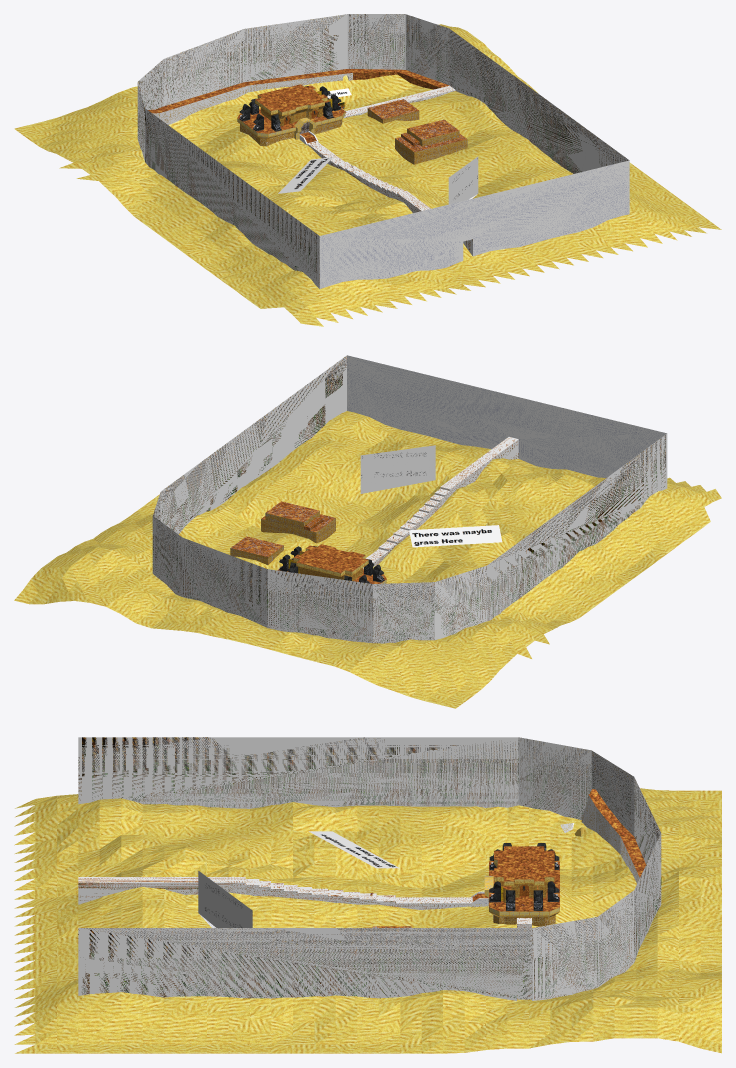
The picture shows the model from 3 angles, top to bottom: view 1: azimuth 30°, elevation 25°; view 2: azimuth 150°, elevation 25°; view 3: azimuth 270°, elevation 25°; orthographic projection. The views are drawn at different scales.
Visible parts, largest first — view 1: SketchUp (×16), image_1; view 2: SketchUp (×10), image_1; view 3: SketchUp (×9), image_1.
Part boxes in pixels (box(x1,y1,x2,y2)): SketchUp (×16): box(14, 14, 721, 326); image_1: box(278, 157, 333, 193); SketchUp (×10): box(14, 355, 721, 708); image_1: box(409, 525, 502, 547); SketchUp (×9): box(14, 737, 721, 1053); image_1: box(308, 831, 399, 868).
Size of the model in its own units: 3543 by 3898 by 571.
